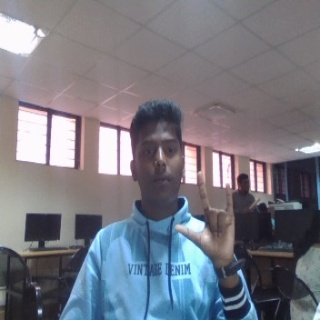Face: (129, 96, 185, 207)
I Love You: (174, 170, 238, 265)
